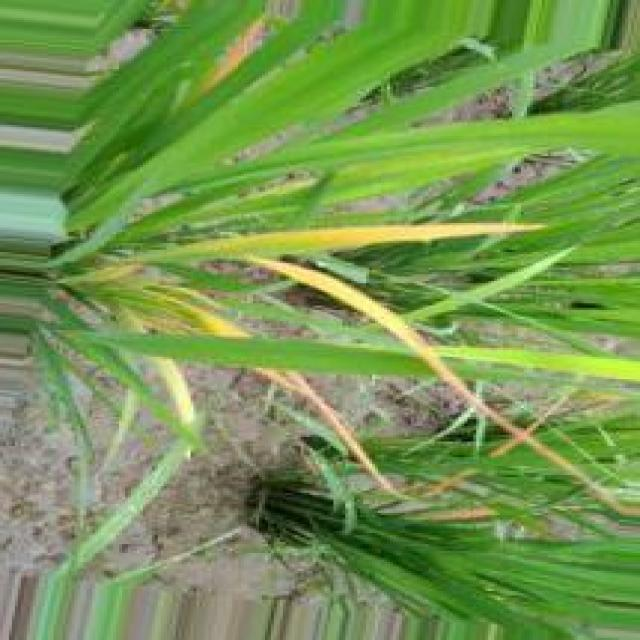Rice Tungro: (245, 257, 639, 517), (143, 226, 544, 262), (247, 258, 407, 338), (197, 16, 264, 93), (153, 356, 192, 426)
